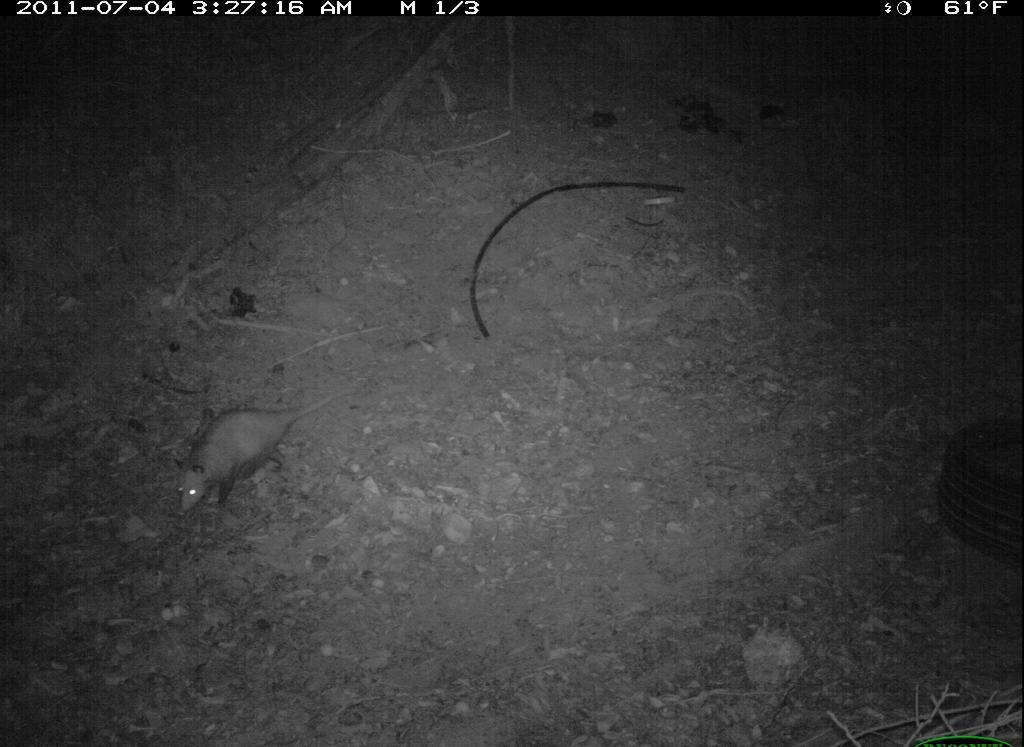opossum: (162, 386, 369, 521)
